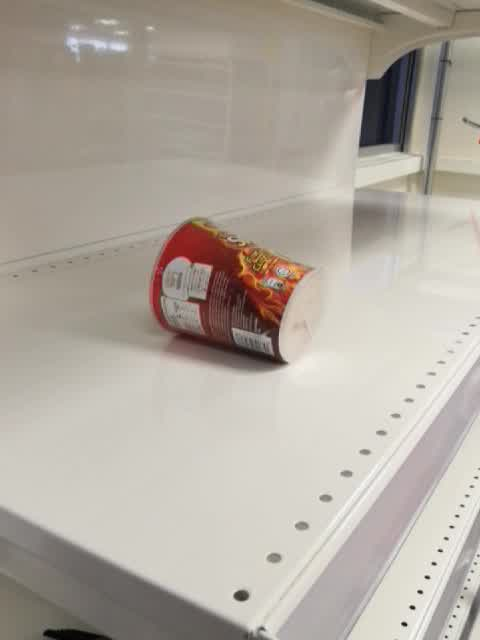maggi: (147, 217, 330, 367)
